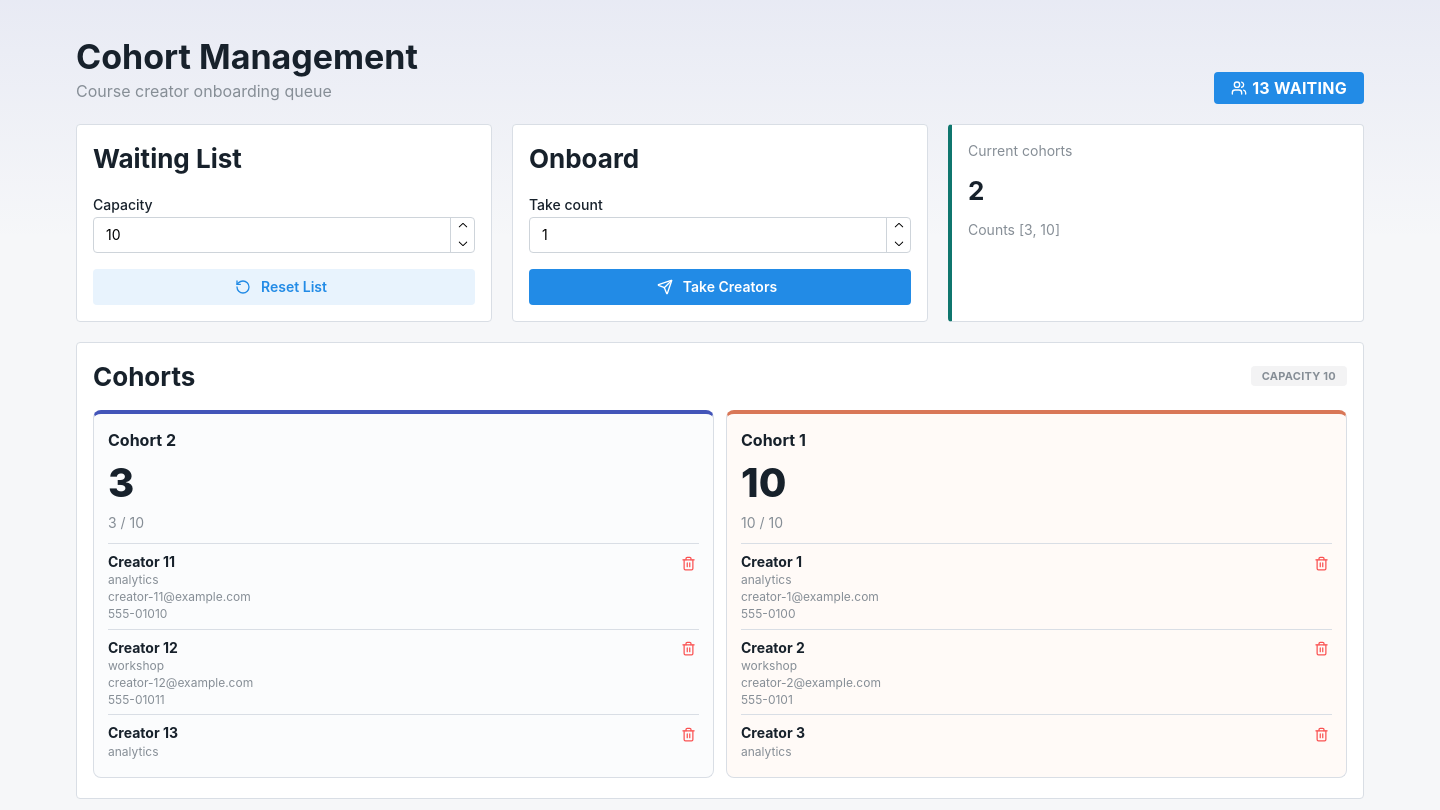
Test: App › removes a displayed creator with a supplied reason
Expected: the text "13 waiting" is shown, top-left (1252, 73), bottom-right (1347, 103)
Click the button named "Remove Creator 11" at [688, 563], box top-left (677, 552), bottom-right (699, 574)
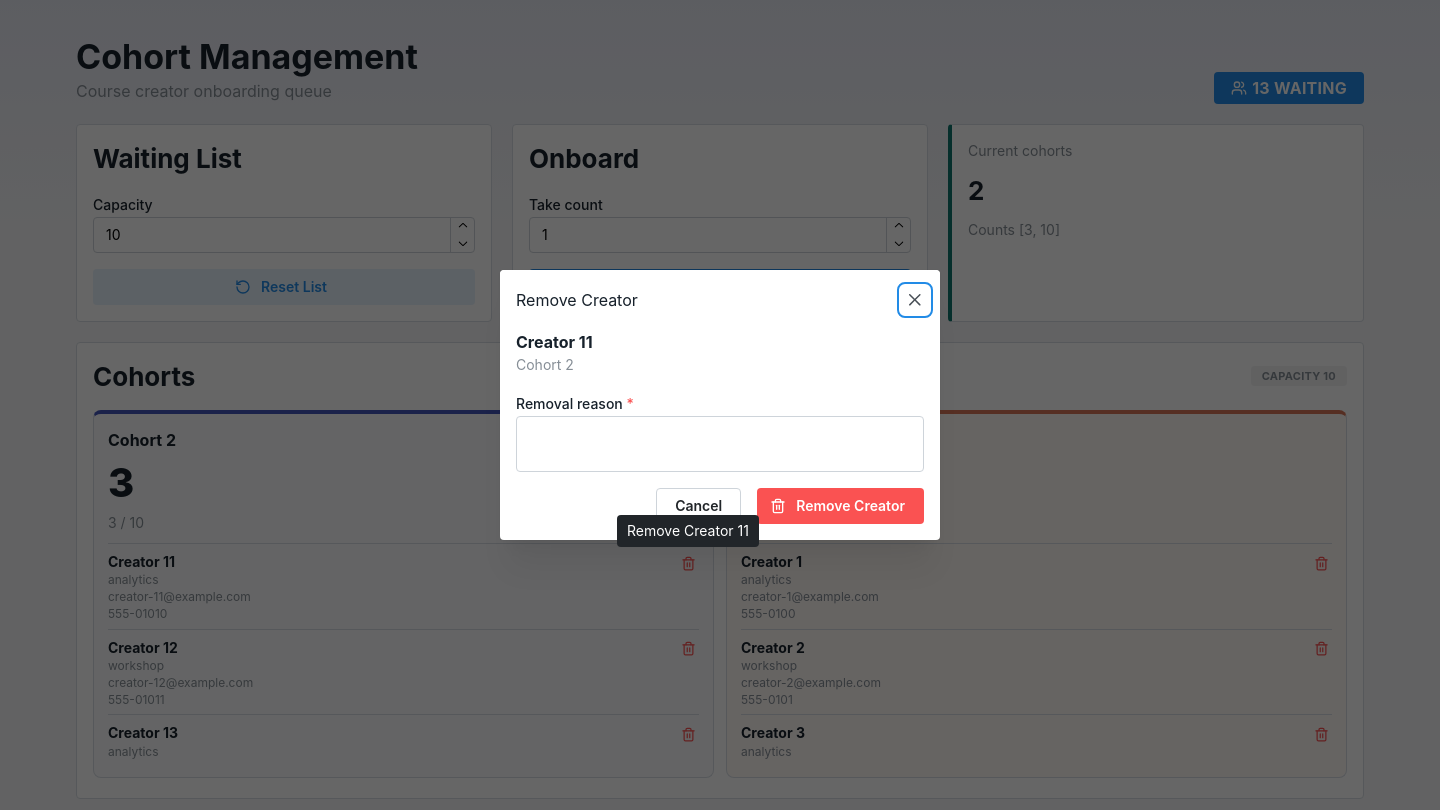
Type "duplicate application" into the text box labelled "Removal reason" at [720, 444], box top-left (516, 416), bottom-right (924, 472)
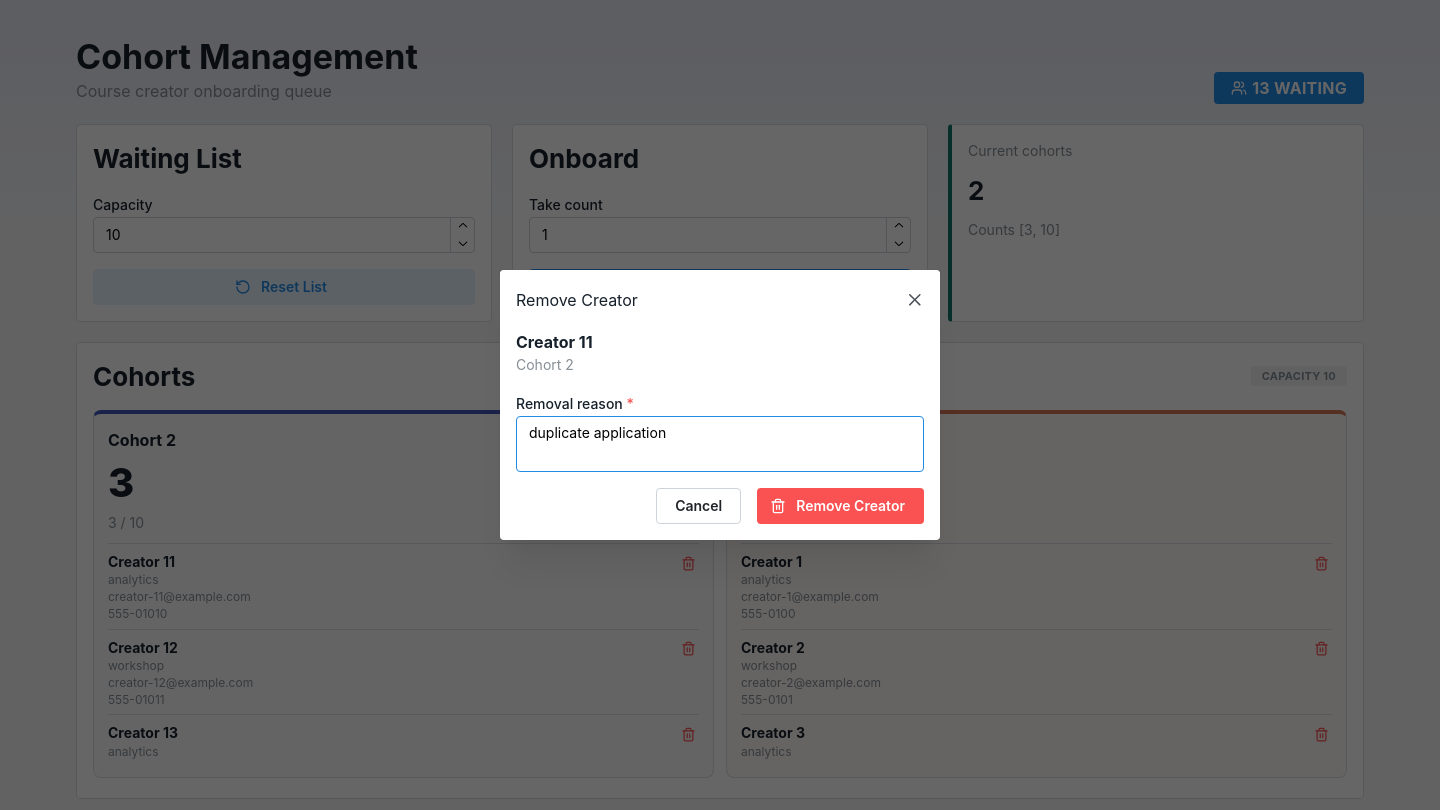
Click the button "Remove Creator" at [841, 506], box top-left (757, 488), bottom-right (924, 524)
(page scrolled)
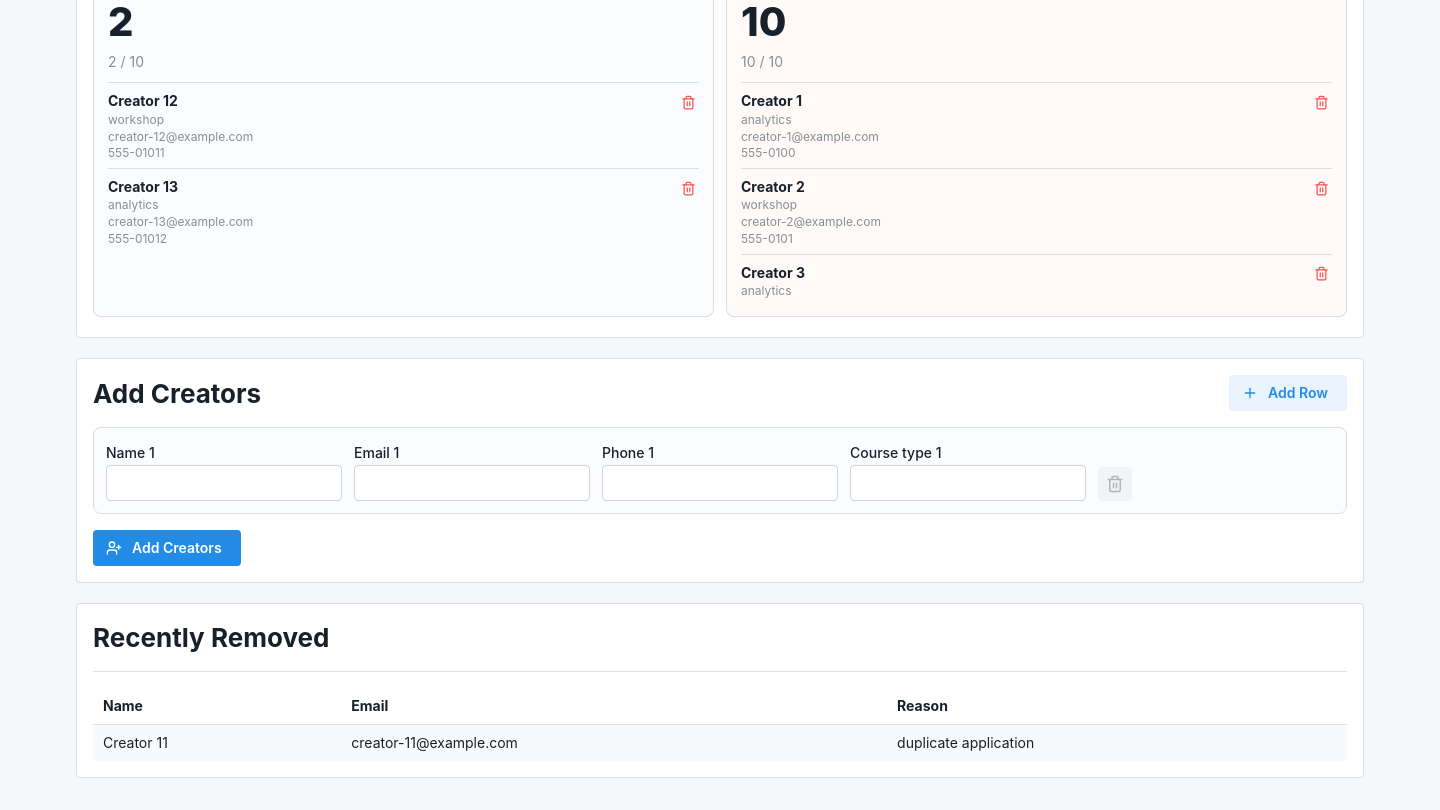
Expected: the text "2 / 10" is shown, top-left (108, 53), bottom-right (144, 70)
Expected: the text "duplicate application" is shown, top-left (887, 724), bottom-right (1347, 761)
